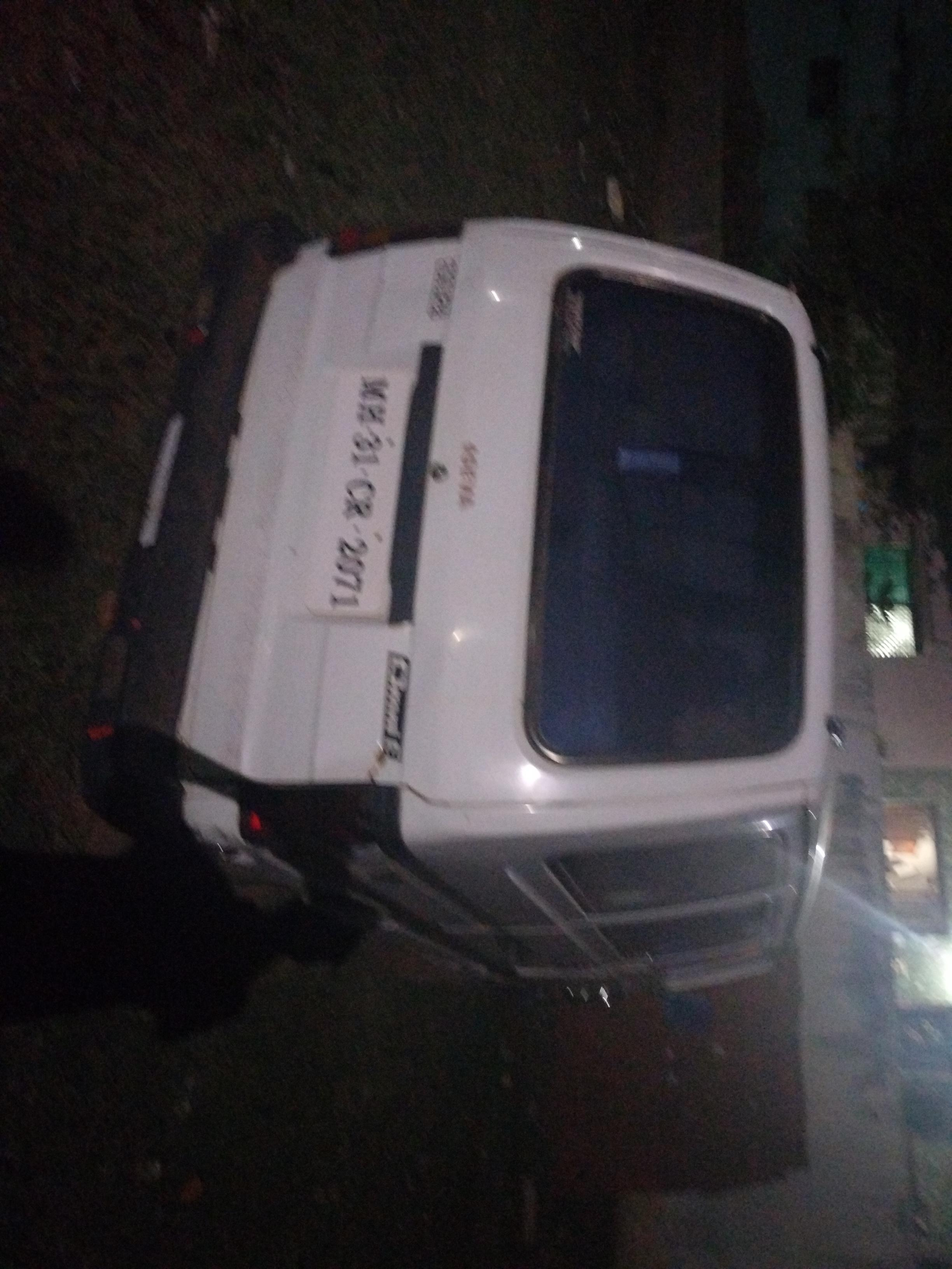non-ambulance: (134, 49, 952, 1269)
